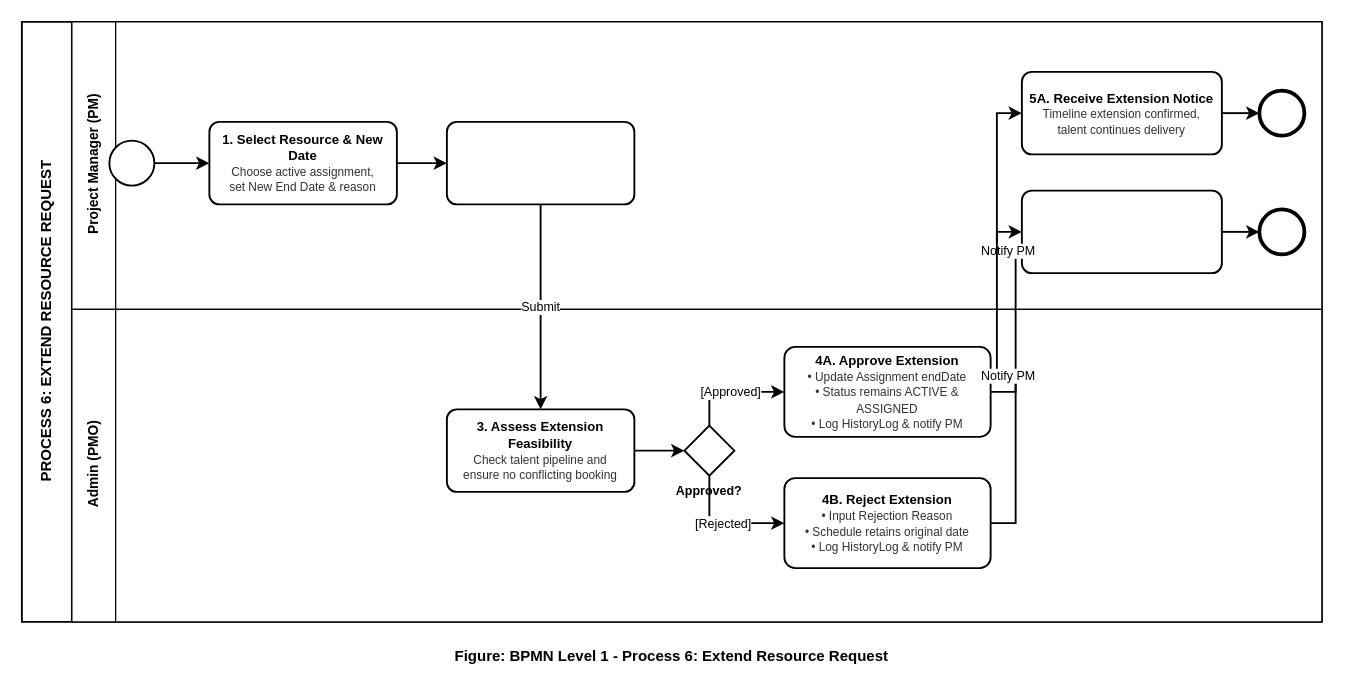
Some shapes in this 1345 by 694 pixel diagram are drawn without their labels. Each missing label, with the box of its shape:
2. Submit Extension Request Send extension proposal (Status: PENDING): (445, 120, 635, 205)
5B. Receive Rejection Notice Prepare offboarding based on original end date: (1020, 189, 1222, 274)
Assignment Ending Soon: (108, 139, 155, 186)
Assignment Extended: (1257, 88, 1306, 137)
Extension Rejected: (1257, 207, 1306, 256)
